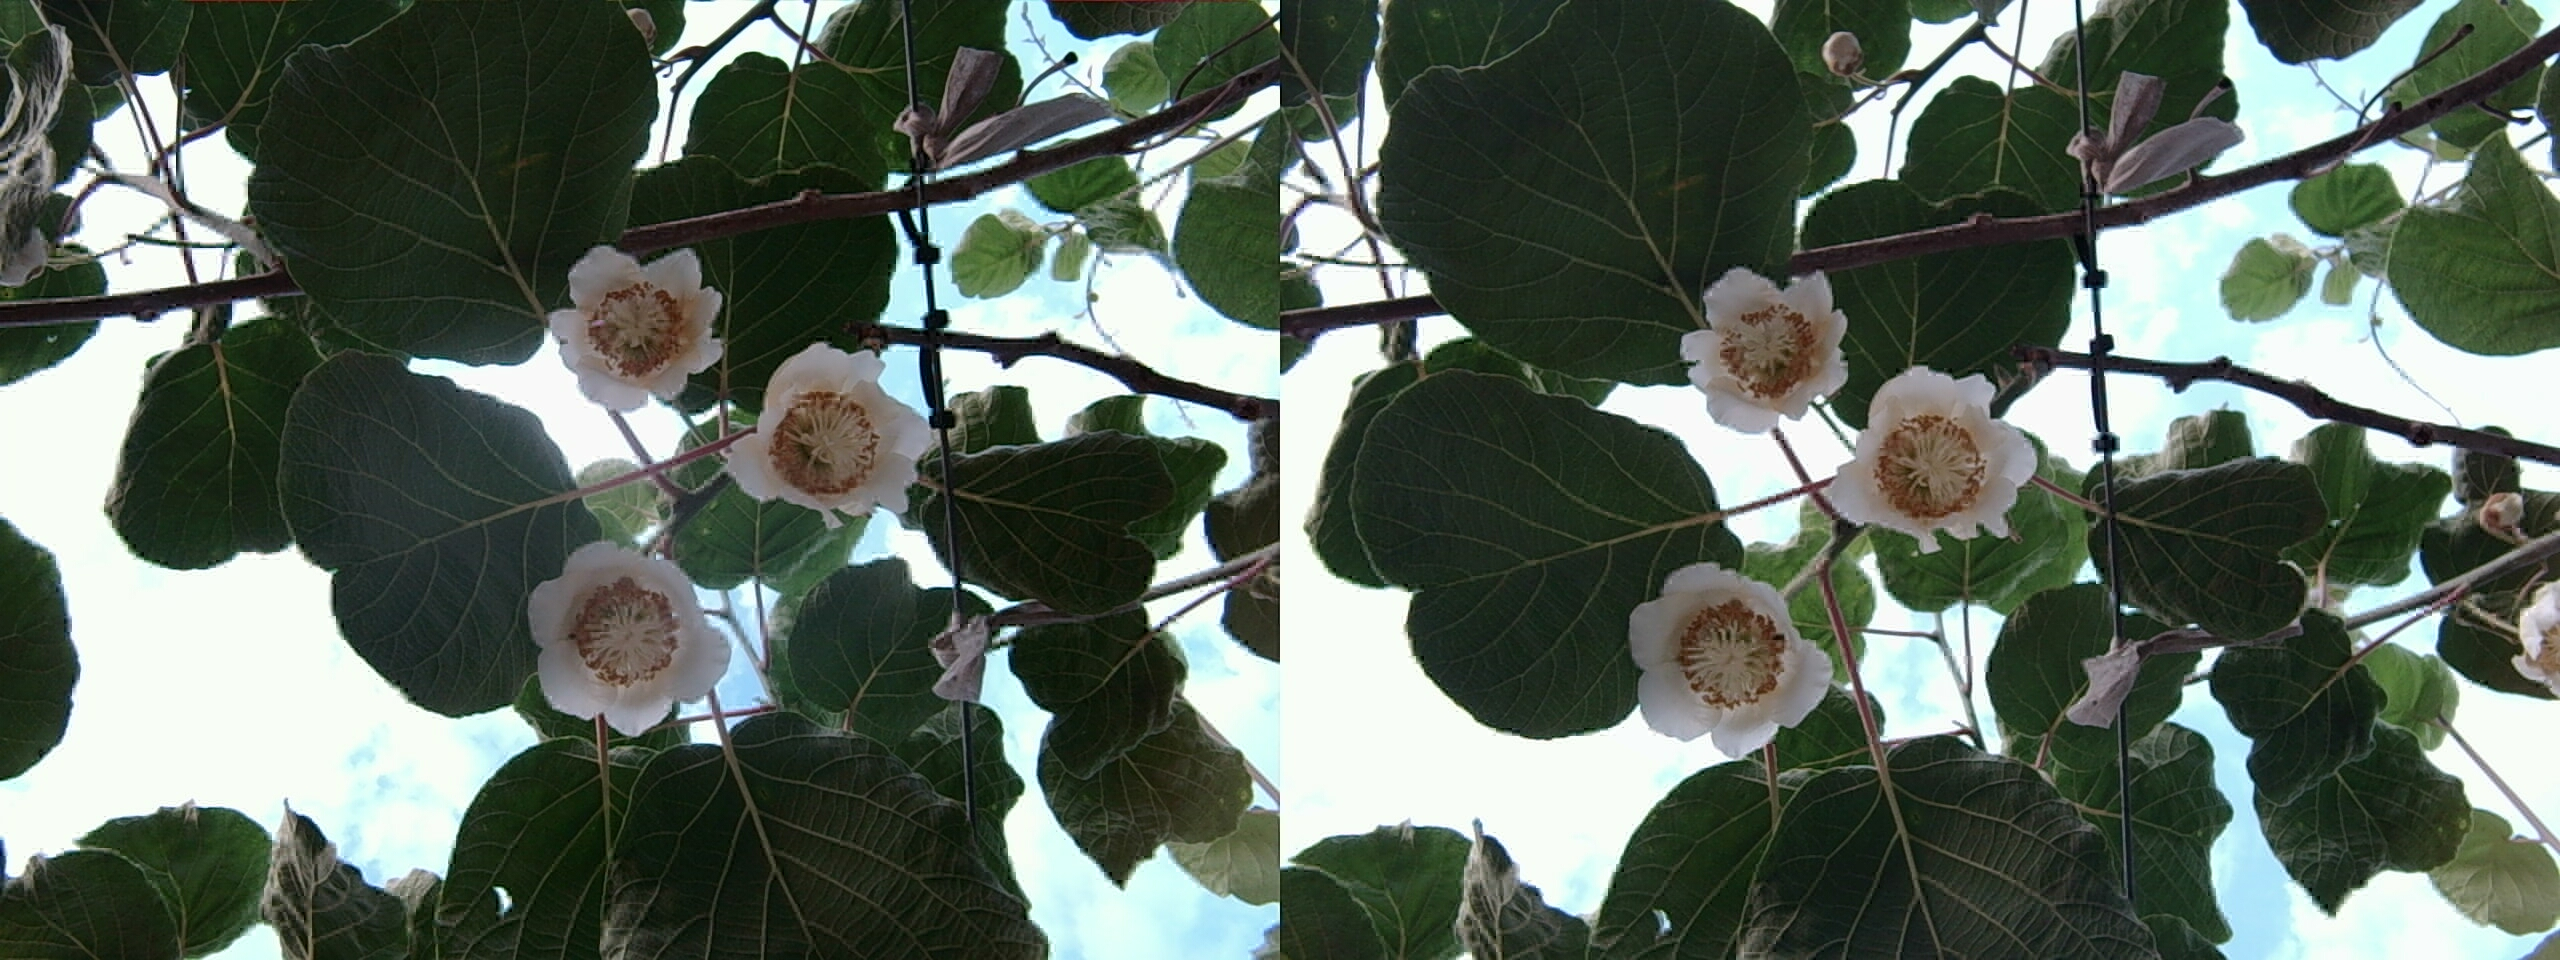flower: (518, 537, 735, 731), (1623, 560, 1829, 751), (1825, 362, 2034, 545), (733, 340, 926, 518), (540, 237, 727, 402), (1677, 261, 1848, 428)
